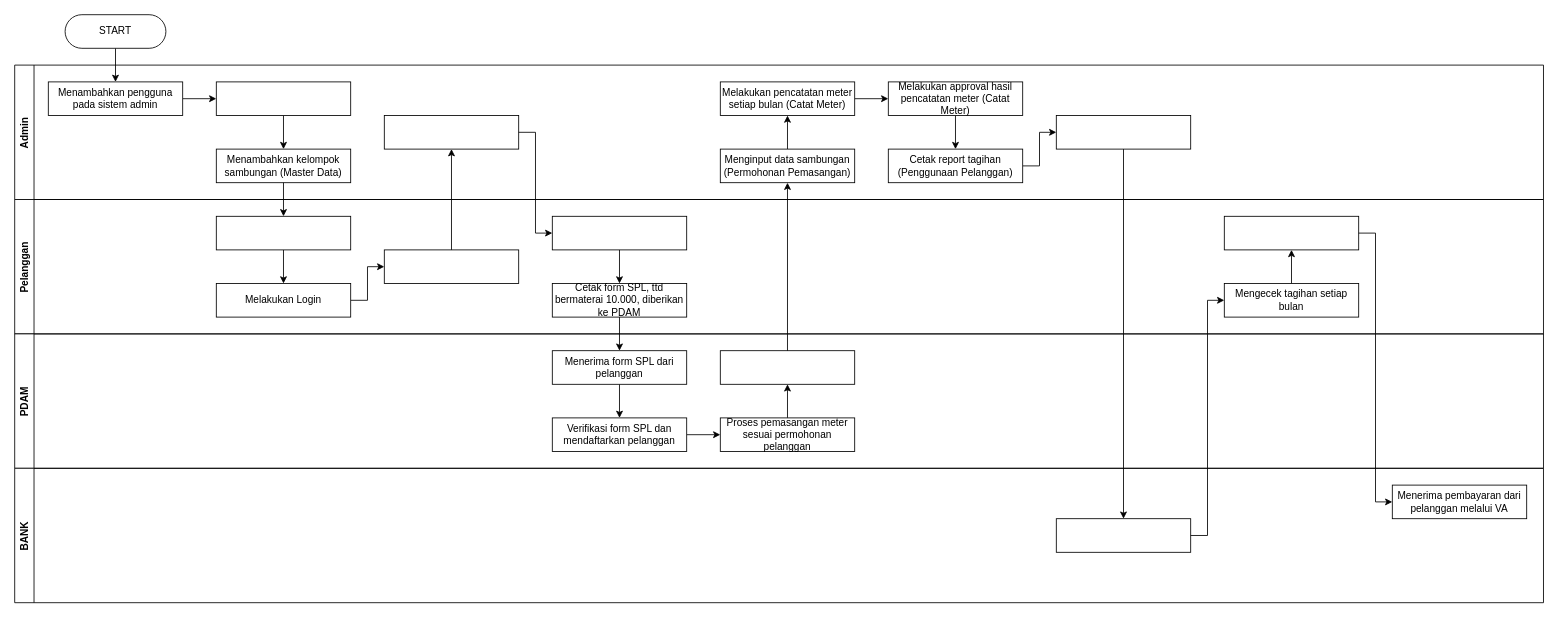
Some shapes in this 1558 by 617 pixel diagram are drawn without their labels. Here are the shapes that lost their labels. From the top down, the centre of each, then its label:
At point (283, 98): "Menambahkan jenis meter (Master Data)".
At point (451, 132): "Verifikasi KTP/SIM akun (Pelanggan Baru)".
At point (1123, 132): "Memberikan report tagihan belum dibayar kepada BANK".
At point (283, 232): "Melakukan registrasi".
At point (619, 232): "Mengisi form permohonan (SPL)".
At point (1291, 232): "Membayar tagihan melalui VA".
At point (451, 266): "Upload foto KTP/SIM".
At point (787, 367): "Memberikan data pelanggan, no VA dan no ID".
At point (1123, 535): "BANK menerima report tagihan pelanggan setiap bulan".
